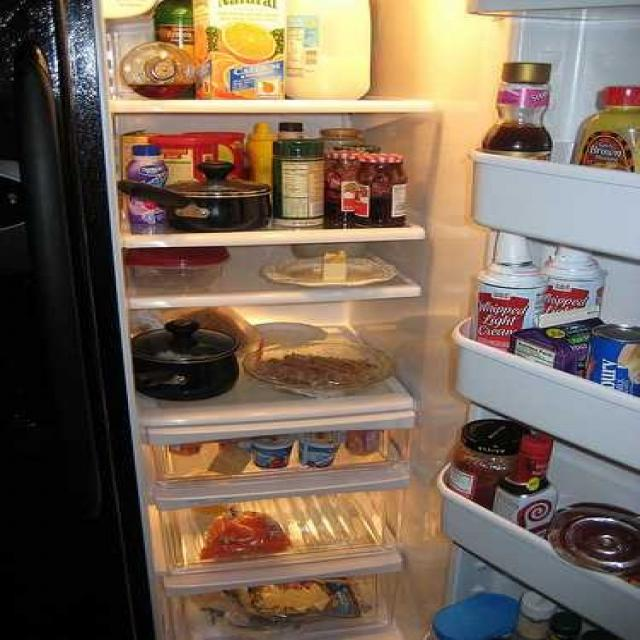refrigerator: (90, 0, 640, 640)
